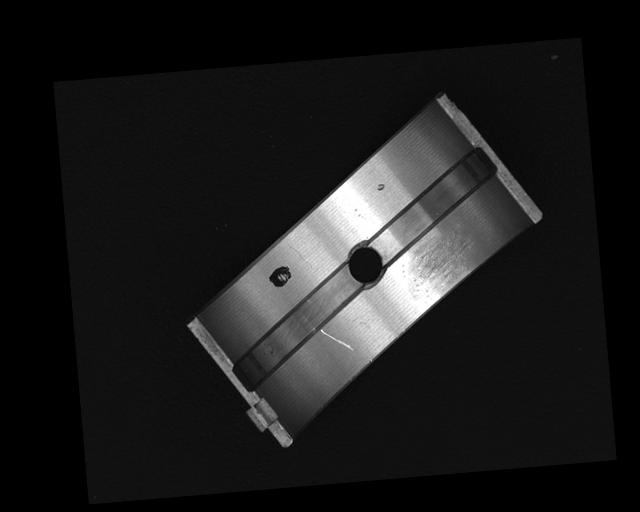blot: (267, 264, 293, 289)
bruise: (375, 182, 385, 191)
gap: (223, 265, 371, 395), (364, 145, 504, 260)
hole: (345, 239, 388, 288)
nick: (319, 325, 355, 354), (288, 239, 311, 273)
scratch: (400, 230, 479, 309)
